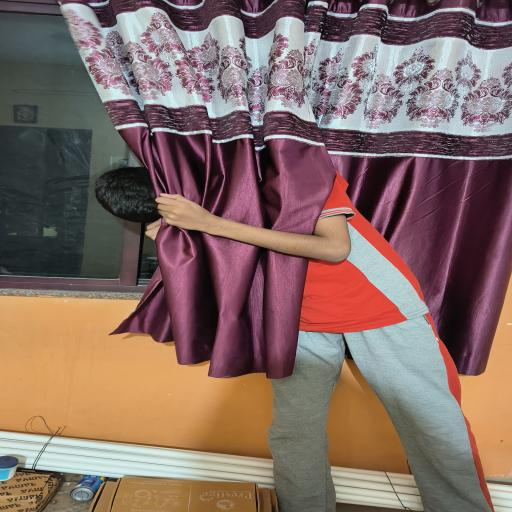survivor: (92, 165, 498, 512)
